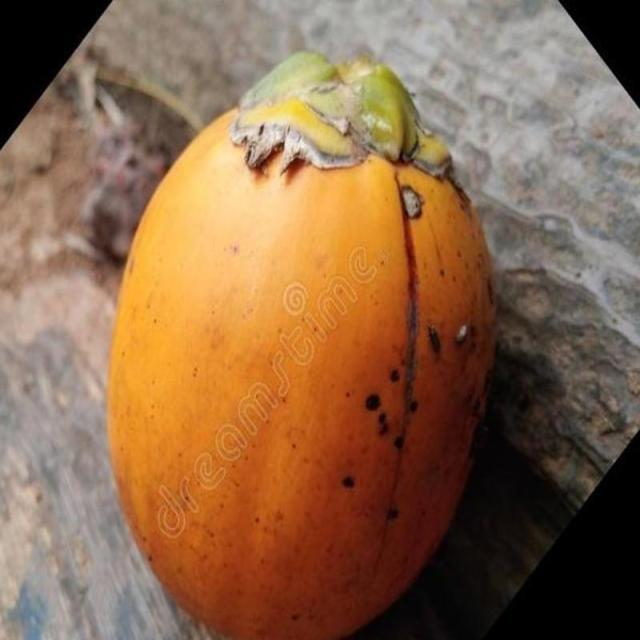good: (105, 51, 499, 639)
